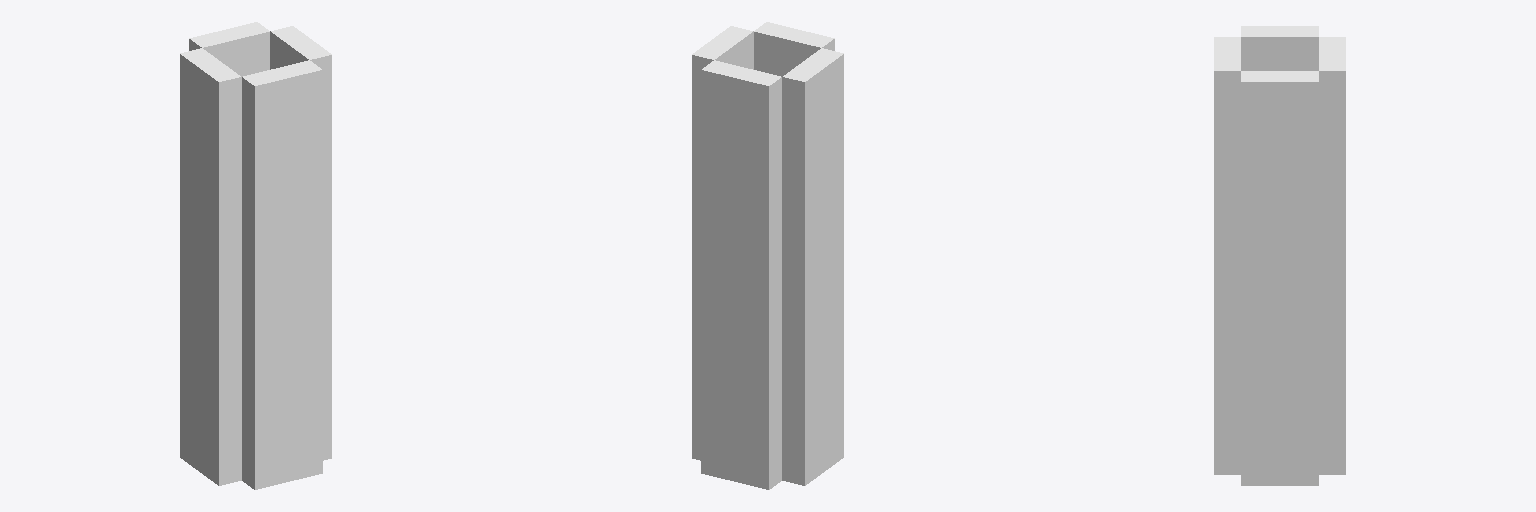
The model's file is Decor-28.obj.
3 views of the same model, side by side, from view 1: azimuth 30°, elevation 25°; view 2: azimuth 150°, elevation 25°; view 3: azimuth 270°, elevation 25° (orthographic).
Visible parts, largest first — view 1: object 1; view 2: object 1; view 3: object 1.
Part boxes in pixels (bbox=[...]): object 1: bbox=[180, 22, 331, 489]; object 1: bbox=[692, 22, 843, 489]; object 1: bbox=[1214, 26, 1345, 485].
Size of the model in its own units: 0.5 by 1.7 by 0.5.